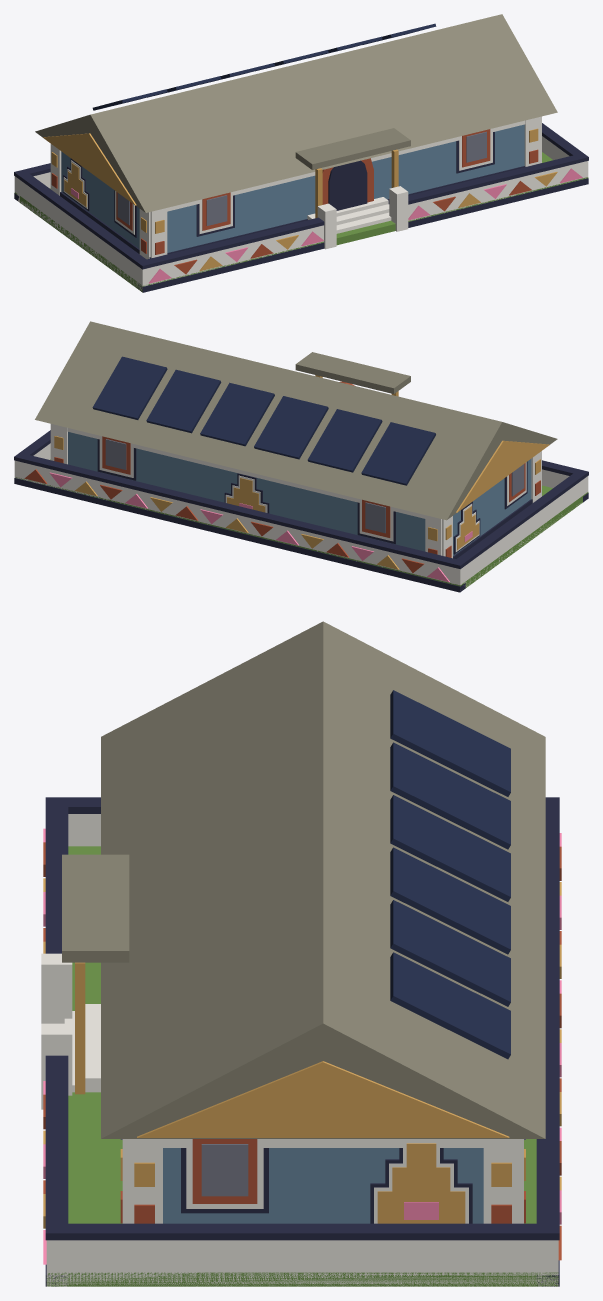
File: house-2x1-1f-ndebele-a-solar.glb
3 views of the same model, one above another, from view 1: azimuth 30°, elevation 25°; view 2: azimuth 150°, elevation 25°; view 3: azimuth 270°, elevation 25° (orthographic). The views are drawn at different scales.
Visible parts, largest first — view 1: house-2x1-1f-ndebele-a-solar; view 2: house-2x1-1f-ndebele-a-solar; view 3: house-2x1-1f-ndebele-a-solar.
Boxes of the visible parts, left/top/right/bottom form: house-2x1-1f-ndebele-a-solar: left=14, top=14, right=588, bottom=292; house-2x1-1f-ndebele-a-solar: left=14, top=321, right=588, bottom=592; house-2x1-1f-ndebele-a-solar: left=41, top=621, right=561, bottom=1286.
Size of the model in its own units: 1.99 by 0.5265 by 1.01.
1 material, 1 textured.
